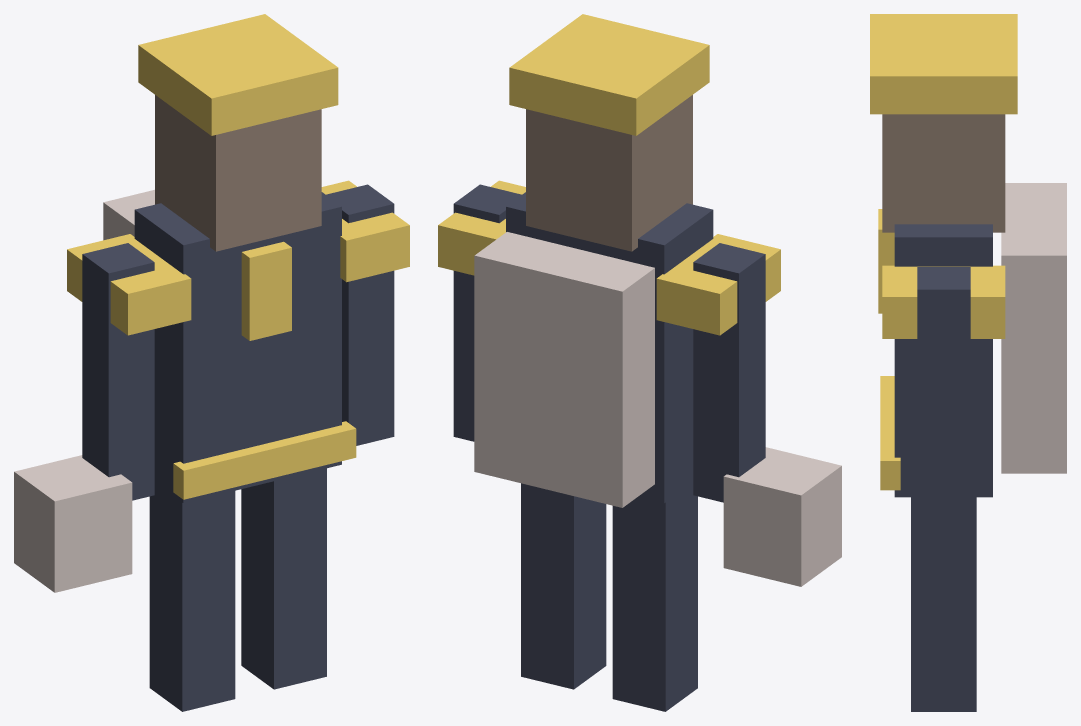
Rendered from 05_sarai_glassroot_specialist_under_null.glb.
3 views of the same model, side by side, from view 1: azimuth 30°, elevation 25°; view 2: azimuth 150°, elevation 25°; view 3: azimuth 270°, elevation 25° (orthographic).
Parts seen in each view (by area): view 1: Sarai Glassroot, Specialist under Null; view 2: Sarai Glassroot, Specialist under Null; view 3: Sarai Glassroot, Specialist under Null.
Boxes of the visible parts, x1,y1,x2,y2 form: Sarai Glassroot, Specialist under Null: [14, 14, 409, 711]; Sarai Glassroot, Specialist under Null: [438, 14, 841, 711]; Sarai Glassroot, Specialist under Null: [870, 14, 1066, 711].
Bounding box in the file's own units: 1 × 1.71 × 0.4841.
